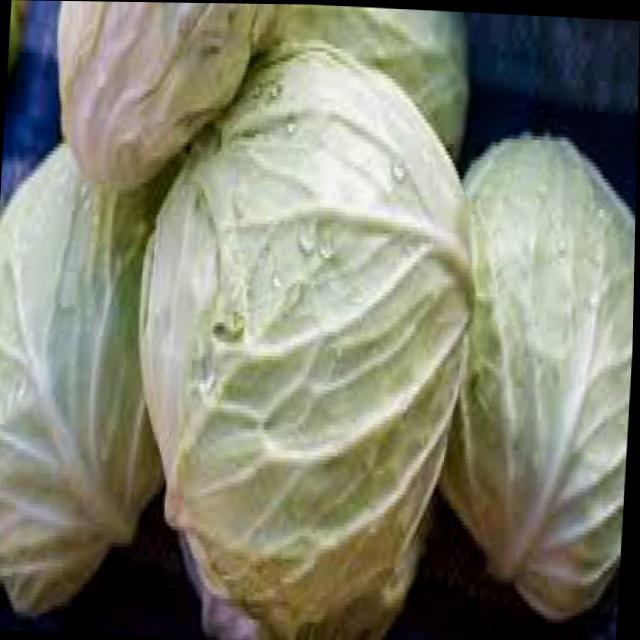Cabbage: (124, 31, 489, 640), (436, 126, 638, 619), (0, 140, 181, 622), (50, 1, 263, 196), (262, 3, 475, 160)
